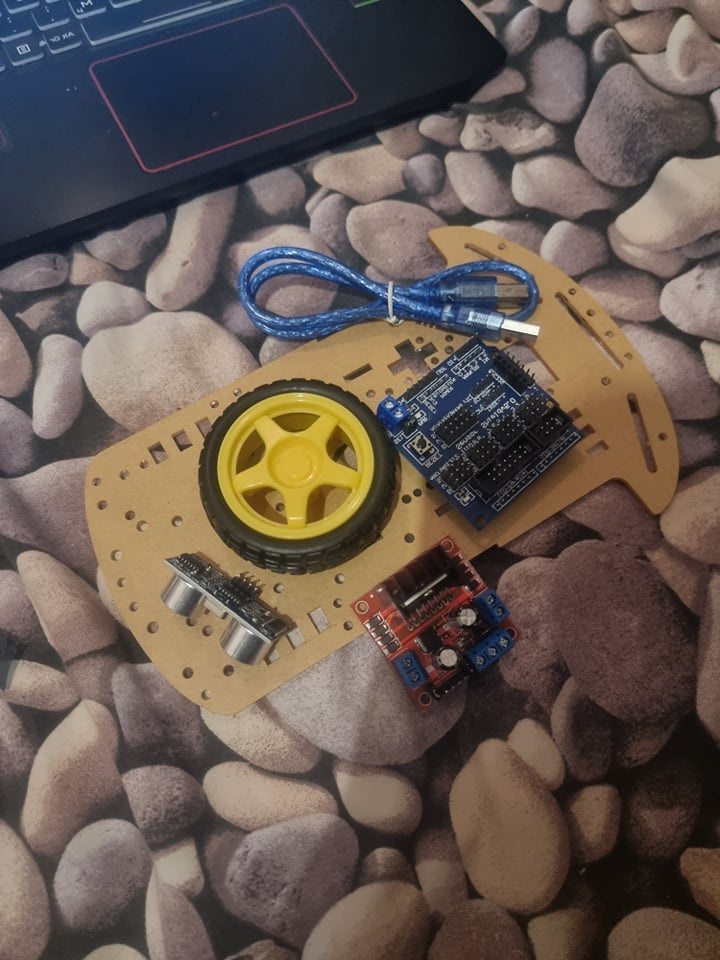5V EXPANSION: (377, 335, 589, 535)
MOTOR: (349, 537, 521, 713)
SENSOR: (160, 552, 290, 667)
